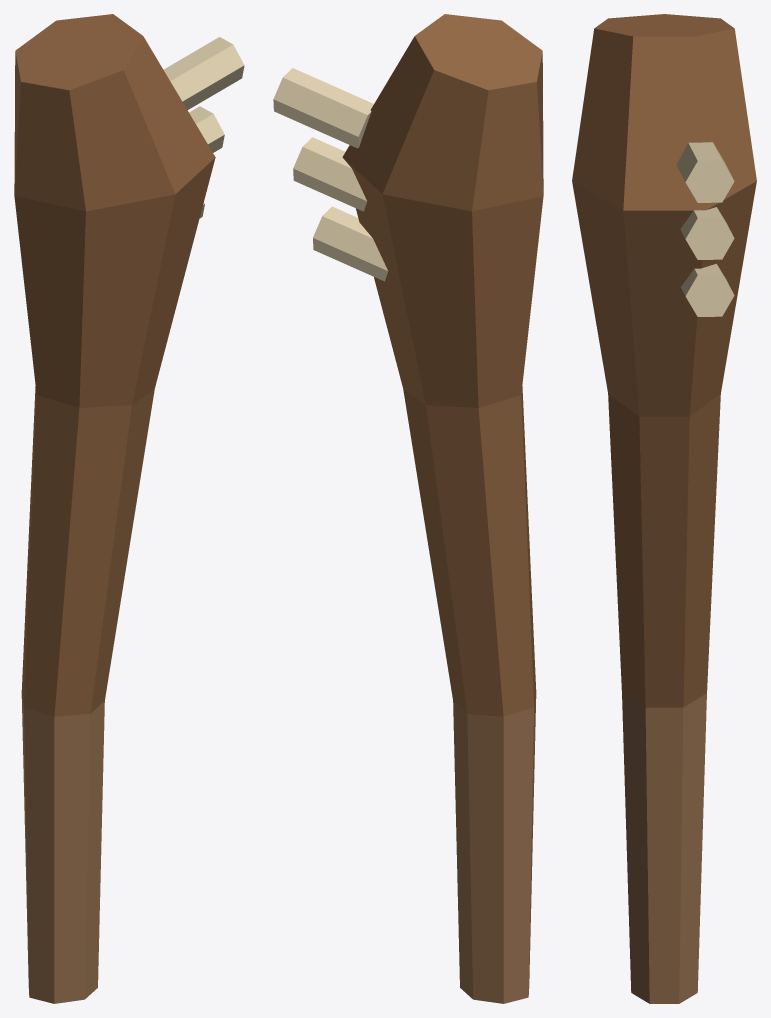
File: bone_club.glb
3 views of the same model, side by side, from view 1: azimuth 30°, elevation 25°; view 2: azimuth 150°, elevation 25°; view 3: azimuth 270°, elevation 25° (orthographic). The views are drawn at different scales.
Visible parts, largest first — view 1: bone_club; view 2: bone_club; view 3: bone_club.
Part boxes in pixels (<box>): bone_club: <box>14,14,244,1003</box>; bone_club: <box>273,14,543,1003</box>; bone_club: <box>572,14,756,1003</box>.
Bounding box in the file's own units: 0.3086 × 1.15 × 0.195.
